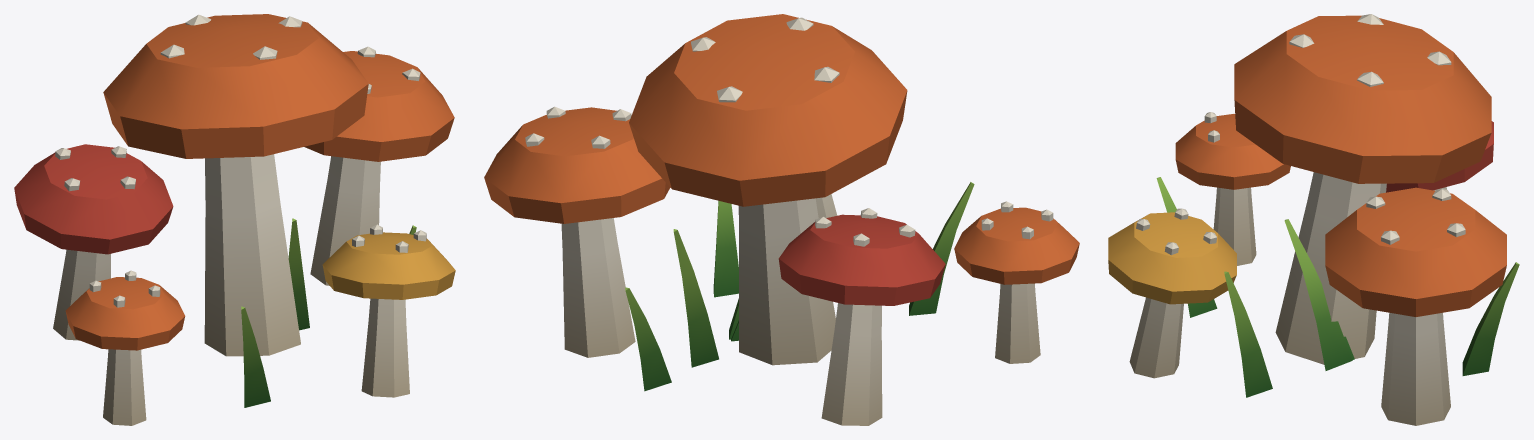
The model's file is MushroomCluster.fbx.
3 renders of one model, left to right at view 1: azimuth 30°, elevation 25°; view 2: azimuth 150°, elevation 25°; view 3: azimuth 270°, elevation 25°, orthographic. The views are drawn at different scales.
Parts seen in each view (by area): view 1: MushroomCluster; view 2: MushroomCluster; view 3: MushroomCluster.
Boxes of the visible parts, left/top/right/bottom form: MushroomCluster: left=14, top=14, right=455, bottom=425; MushroomCluster: left=484, top=14, right=1079, bottom=425; MushroomCluster: left=1108, top=14, right=1519, bottom=425.
Bounding box in the file's own units: 0.4748 × 0.2999 × 0.3616.
